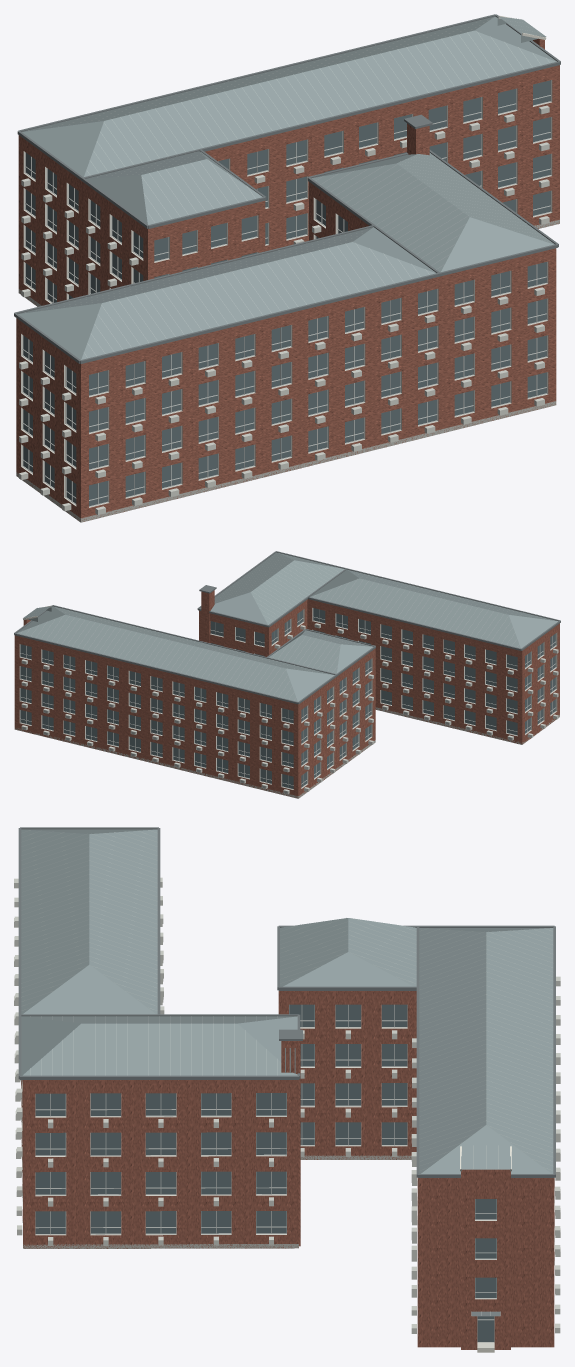
3 views of the same model, one above another, from view 1: azimuth 30°, elevation 25°; view 2: azimuth 150°, elevation 25°; view 3: azimuth 270°, elevation 25° (orthographic). The views are drawn at different scales.
Parts seen in each view (by area): view 1: maeji-1__classroomFacades (×2), maeji-1__rearLongHip, maeji-1__frontLongHip, maeji-1__frontReturnHip, maeji-1__windowAndDoorFrames, maeji-1__wallAirConditioners, maeji-1__recessedOpeningReveals, maeji-1__rearReturnHip, maeji-1__rearLongHipFascia, maeji-1__frontLongHipFascia, maeji-1__originalFootprintFoundation, maeji-1__rearLongHipSeams (+5 smaller); view 2: maeji-1__classroomFacades (×2), maeji-1__rearLongHip, maeji-1__frontLongHip, maeji-1__windowAndDoorFrames, maeji-1__frontReturnHip, maeji-1__wallAirConditioners (×2), maeji-1__recessedOpeningReveals, maeji-1__rearReturnHip, maeji-1__rearLongHipFascia, maeji-1__originalFootprintFoundation, maeji-1__frontLongHipFascia, maeji-1__frontReturnHipFascia (+4 smaller); view 3: maeji-1__classroomFacades (×2), maeji-1__rearLongHip, maeji-1__frontLongHip, maeji-1__frontReturnHip, maeji-1__foregroundStairSidePlanes, maeji-1__rearReturnHip, maeji-1__foregroundProjectedStairPier, maeji-1__wallAirConditioners, maeji-1__windowAndDoorFrames, maeji-1__rearLongHipFascia, maeji-1__frontReturnHipFascia, maeji-1__frontLongHipFascia (+8 smaller).
Boxes of the visible parts, x1=… form: maeji-1__classroomFacades (×2): x1=16, y1=65, x2=559, y2=521; maeji-1__rearLongHip: x1=22, y1=16, x2=556, y2=177; maeji-1__frontLongHip: x1=18, y1=227, x2=436, y2=359; maeji-1__frontReturnHip: x1=311, y1=153, x2=554, y2=272; maeji-1__windowAndDoorFrames: x1=22, y1=80, x2=551, y2=506; maeji-1__wallAirConditioners: x1=19, y1=105, x2=549, y2=514; maeji-1__recessedOpeningReveals: x1=21, y1=80, x2=552, y2=507; maeji-1__rearReturnHip: x1=86, y1=151, x2=262, y2=224; maeji-1__rearLongHipFascia: x1=17, y1=14, x2=560, y2=180; maeji-1__frontLongHipFascia: x1=14, y1=225, x2=439, y2=363; maeji-1__originalFootprintFoundation: x1=16, y1=219, x2=559, y2=522; maeji-1__rearLongHipSeams: x1=28, y1=18, x2=549, y2=175; maeji-1__classroomFacades (×2): x1=14, y1=599, x2=559, y2=798; maeji-1__rearLongHip: x1=16, y1=606, x2=334, y2=701; maeji-1__frontLongHip: x1=310, y1=569, x2=558, y2=648; maeji-1__windowAndDoorFrames: x1=20, y1=608, x2=556, y2=789; maeji-1__frontReturnHip: x1=200, y1=552, x2=344, y2=624; maeji-1__wallAirConditioners (×2): x1=21, y1=623, x2=558, y2=794; maeji-1__recessedOpeningReveals: x1=19, y1=608, x2=557, y2=789; maeji-1__rearReturnHip: x1=268, y1=630, x2=373, y2=673; maeji-1__rearLongHipFascia: x1=14, y1=605, x2=337, y2=704; maeji-1__originalFootprintFoundation: x1=14, y1=707, x2=559, y2=798; maeji-1__frontLongHipFascia: x1=307, y1=568, x2=560, y2=650; maeji-1__frontReturnHipFascia: x1=197, y1=551, x2=346, y2=627; maeji-1__classroomFacades (×2): x1=21, y1=991, x2=554, y2=1260; maeji-1__rearLongHip: x1=419, y1=928, x2=553, y2=1173; maeji-1__frontLongHip: x1=21, y1=829, x2=157, y2=1014; maeji-1__frontReturnHip: x1=21, y1=1016, x2=297, y2=1075; maeji-1__foregroundStairSidePlanes: x1=417, y1=1177, x2=554, y2=1347; maeji-1__rearReturnHip: x1=280, y1=918, x2=416, y2=986; maeji-1__foregroundProjectedStairPier: x1=461, y1=1169, x2=510, y2=1349; maeji-1__wallAirConditioners: x1=14, y1=877, x2=560, y2=1333; maeji-1__windowAndDoorFrames: x1=35, y1=1004, x2=496, y2=1342; maeji-1__rearLongHipFascia: x1=416, y1=925, x2=555, y2=1177; maeji-1__frontReturnHipFascia: x1=18, y1=1014, x2=300, y2=1079; maeji-1__frontLongHipFascia: x1=18, y1=827, x2=160, y2=1016.
Bounding box in the file's own units: 70.02 × 19.1 × 45.44.
Materials: 10 (1 with a texture image).
